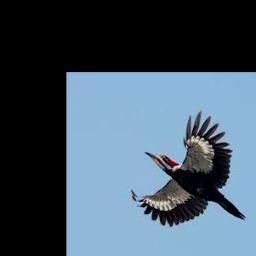Woodpecker: (131, 110, 246, 226)
